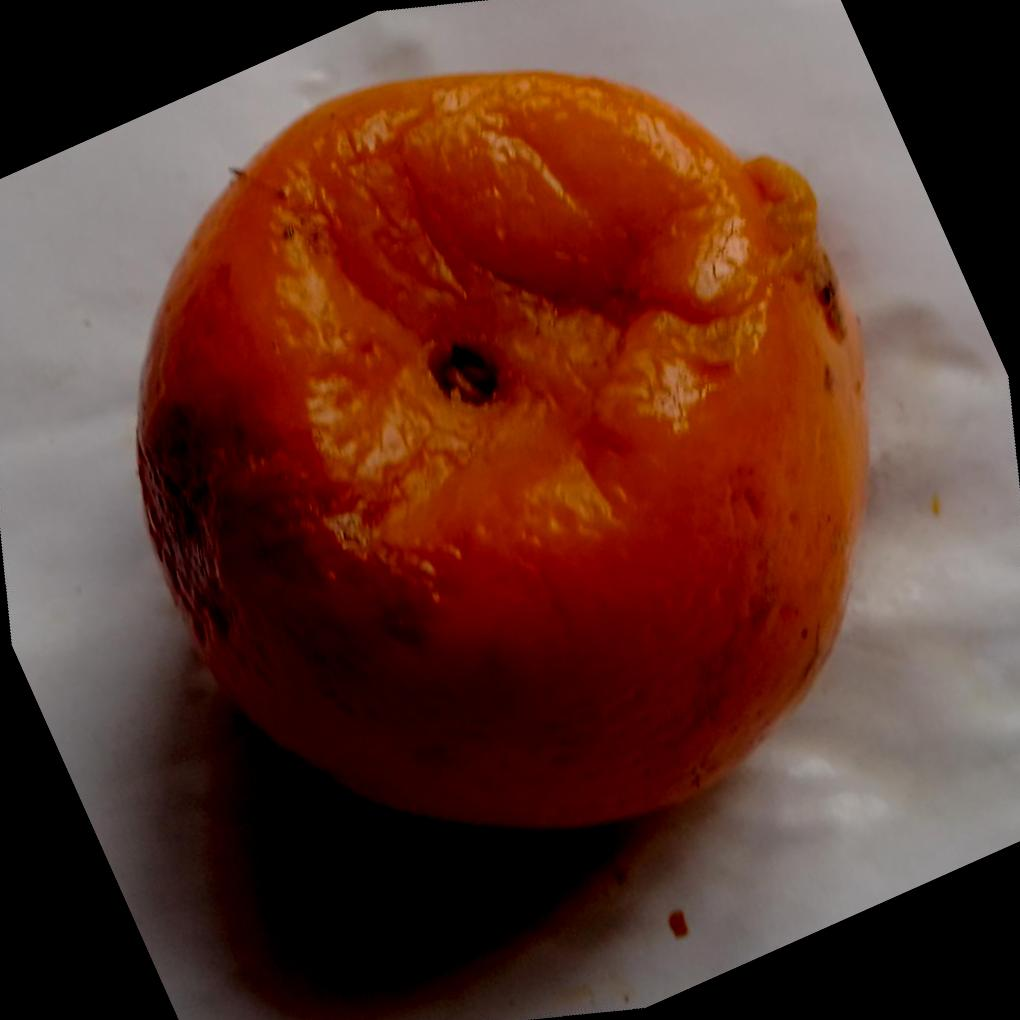FreshOrange: (133, 70, 873, 838)
